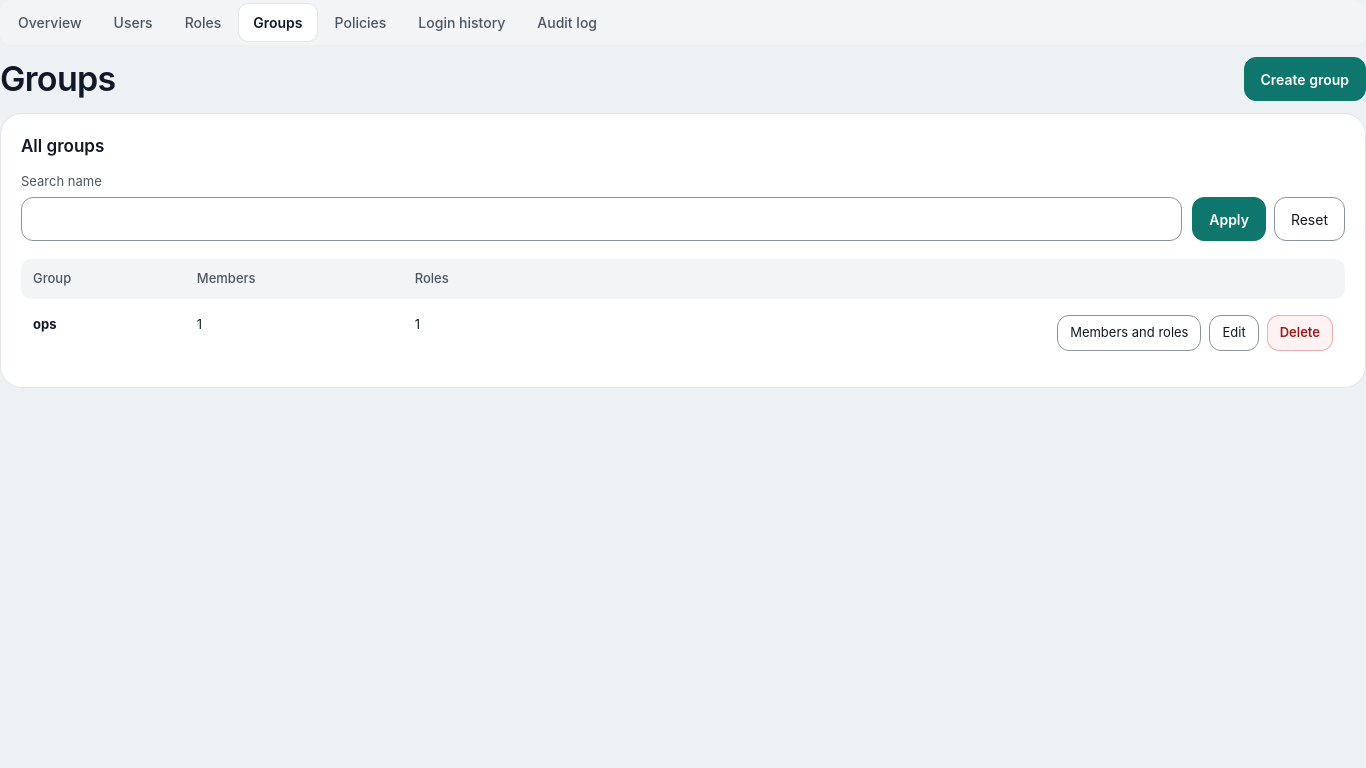
Test: IAM groups › validates then creates a group
Check: the cell "ops" is shown, box x1=21 y1=304 x2=185 y2=360
Step 1. Click the button "Create group" → [1305, 79], box x1=1244 y1=57 x2=1365 y2=101
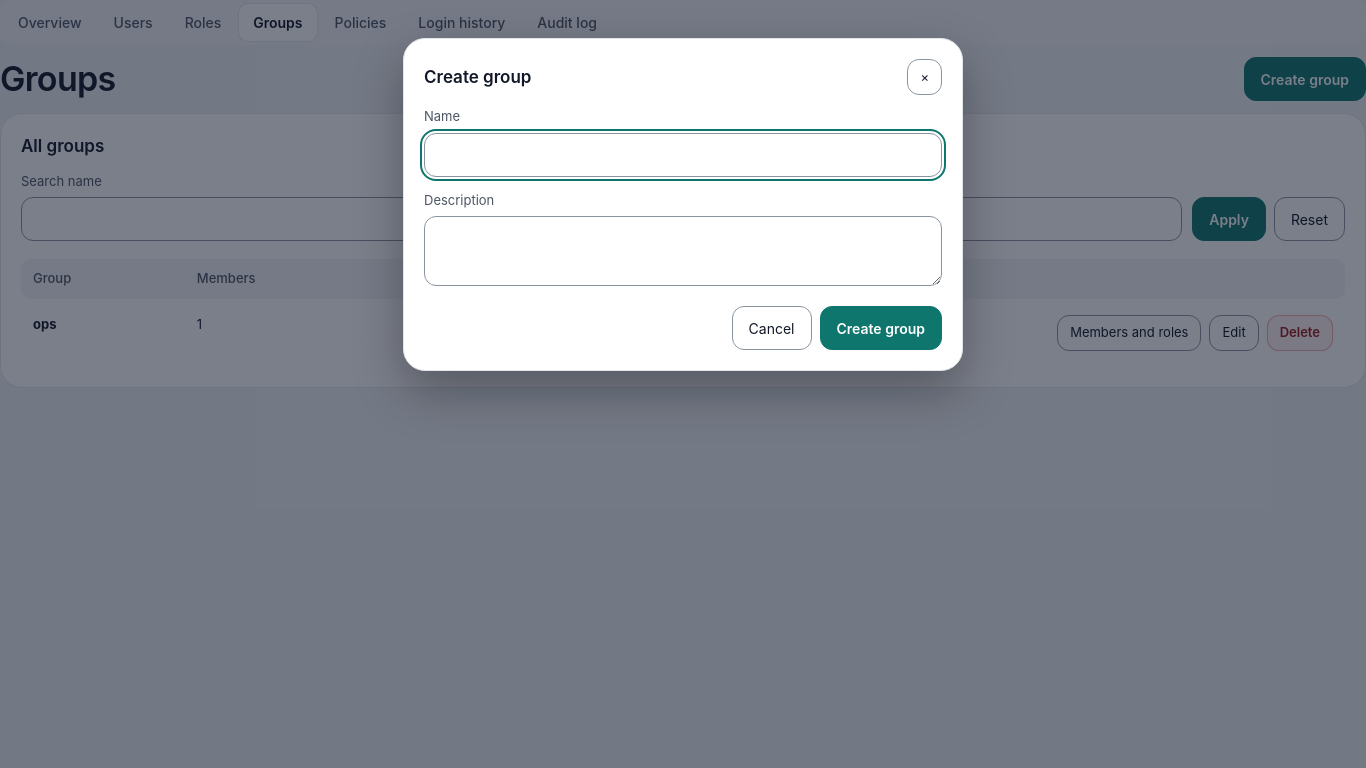
Step 2. Type "x" into the field labelled "Name" → [683, 155], box x1=424 y1=133 x2=942 y2=177
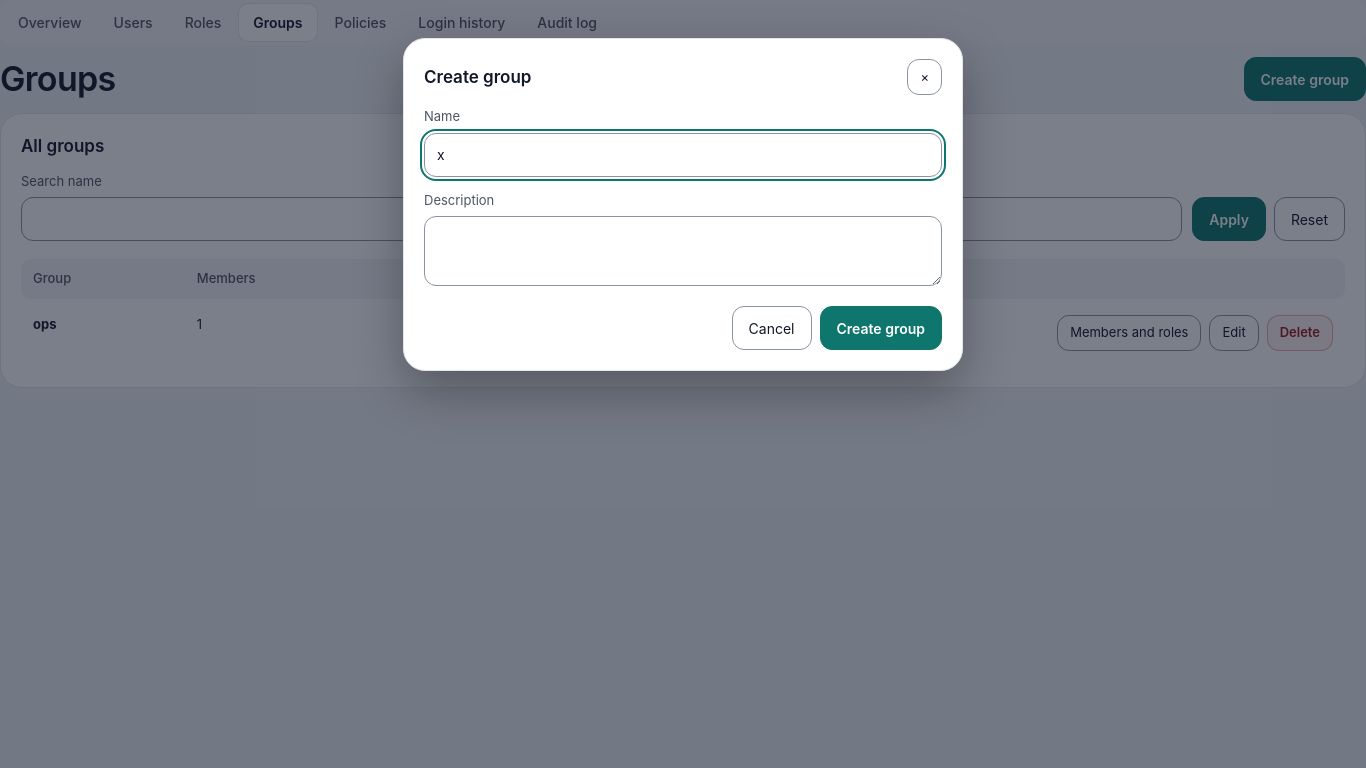
Step 3. Click the button "Create group" → [881, 328], box x1=820 y1=306 x2=942 y2=350
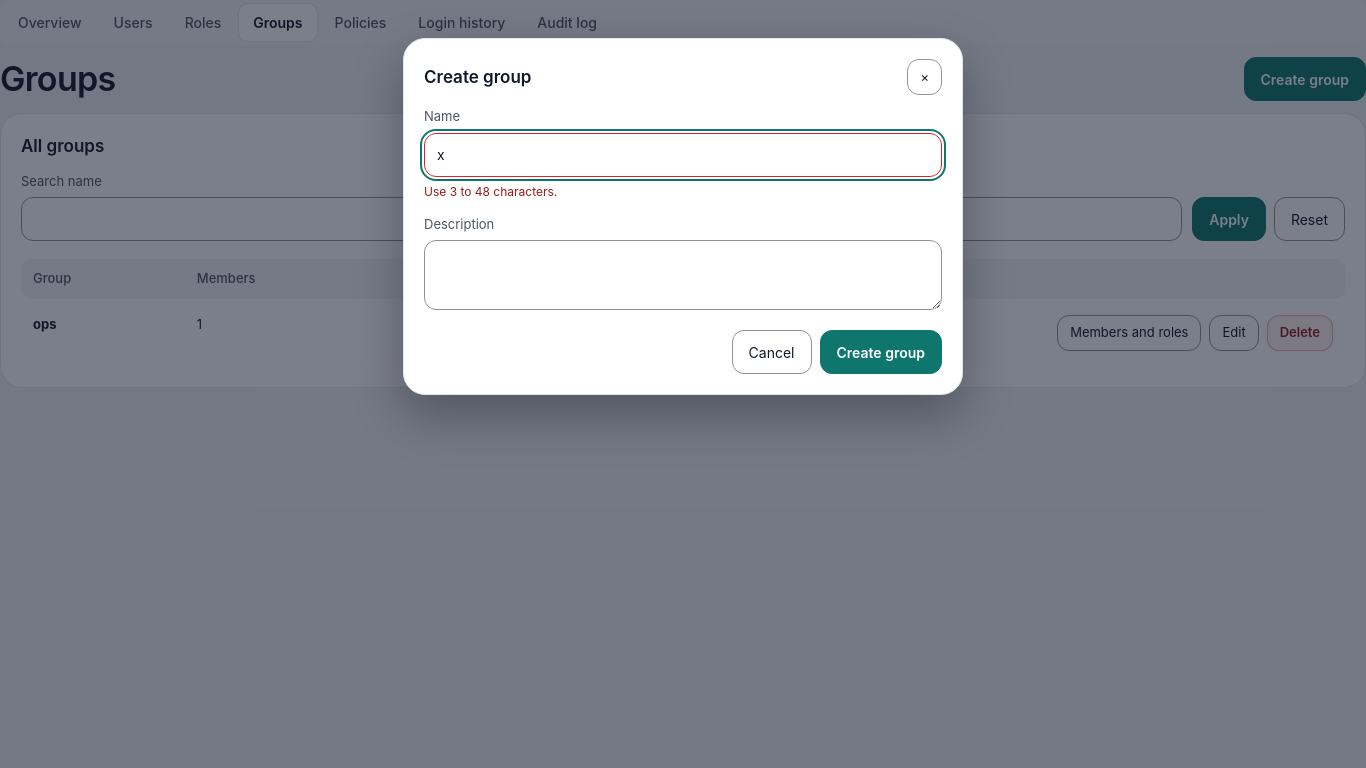
Check: the text "Use 3 to 48 characters." is shown, box x1=424 y1=184 x2=557 y2=199
Step 4. Replace the text in the field labelled "Name" with "night-shift" → [683, 155], box x1=424 y1=133 x2=942 y2=177
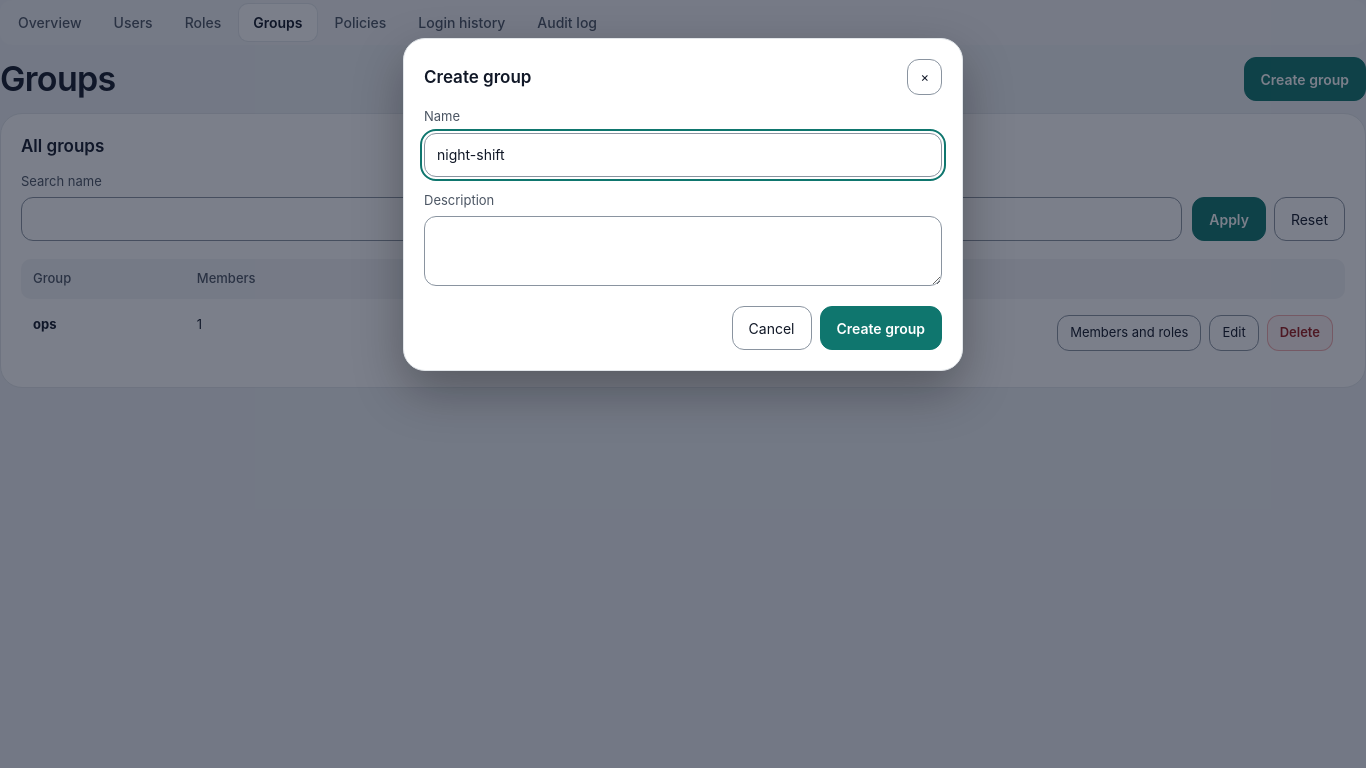
Step 5. Click the button "Create group" → [881, 328], box x1=820 y1=306 x2=942 y2=350
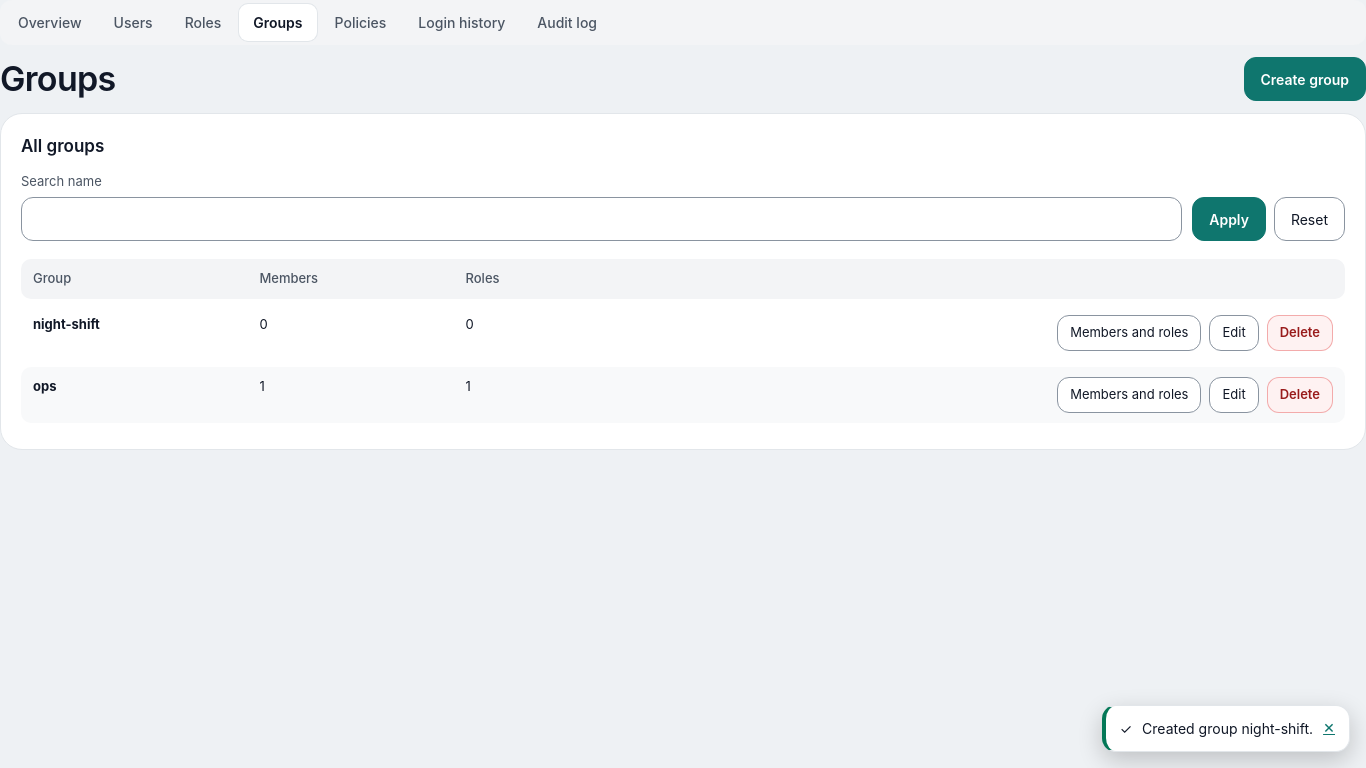
Check: the text "Created group night-shift." is shown, box x1=1142 y1=718 x2=1313 y2=739
Check: the cell "night-shift" is shown, box x1=21 y1=304 x2=247 y2=360
